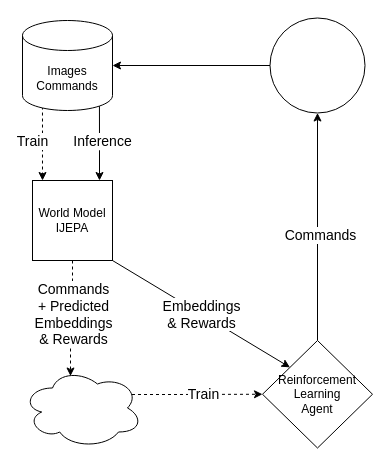
This 390x465 diagram has some shape labels left out. Each missing label, with the centre of its shape:
Camera: the point at 317,65
Dreams: the point at 82,407
